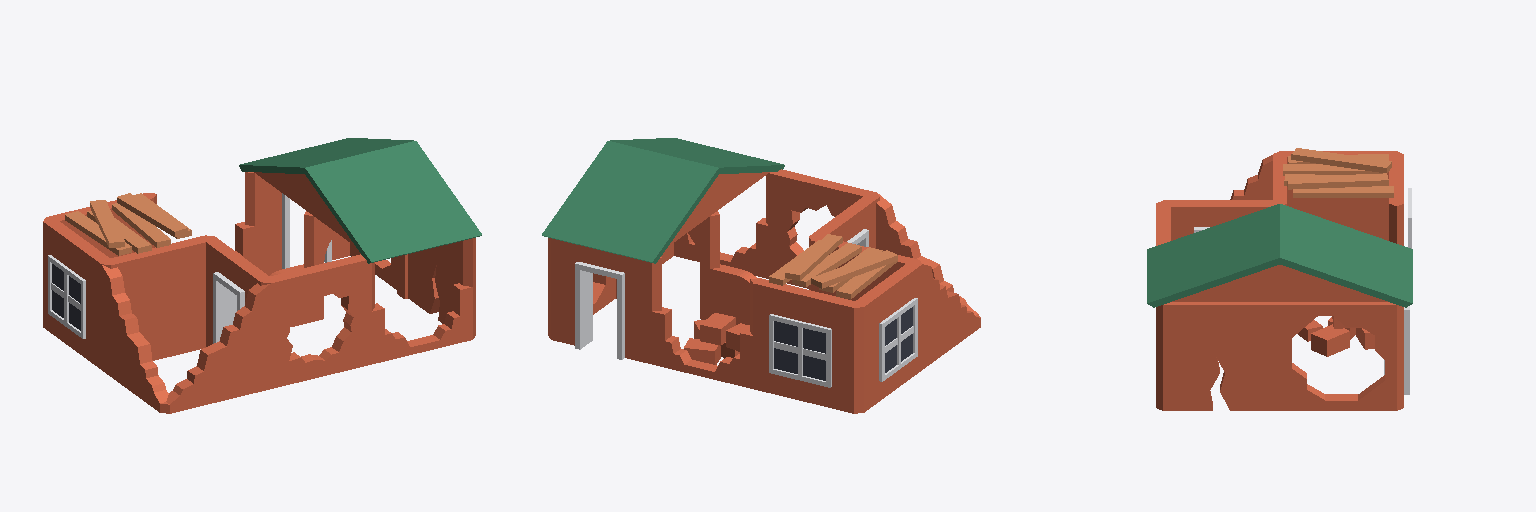
Rendered from House1Damaged.obj.
The picture shows the model from 3 angles: view 1: azimuth 30°, elevation 25°; view 2: azimuth 150°, elevation 25°; view 3: azimuth 270°, elevation 25°; orthographic projection.
Bounding box in the file's own units: 3.19 × 1.44 × 2.28.